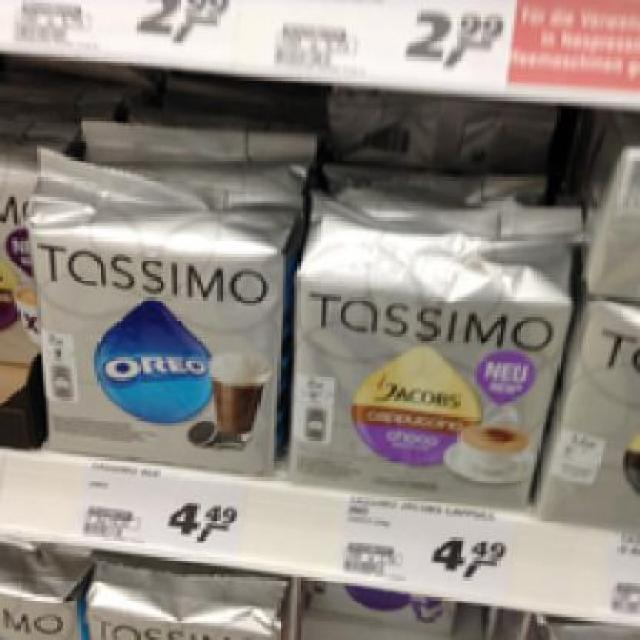Coffee: (286, 165, 574, 506), (23, 140, 300, 474)
